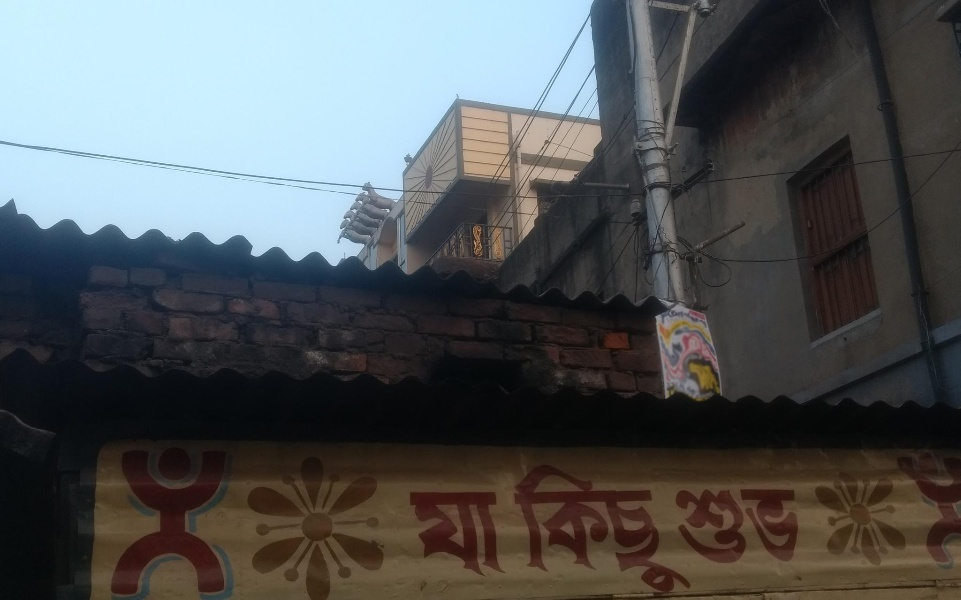text: (513, 465, 528, 592), (529, 465, 544, 592), (545, 465, 560, 592), (561, 465, 576, 592), (577, 465, 592, 592), (593, 465, 608, 592), (609, 465, 624, 592), (625, 465, 640, 592), (641, 465, 656, 592), (657, 465, 672, 592), (673, 465, 688, 592), (417, 488, 432, 579), (433, 488, 448, 579), (449, 488, 464, 579), (465, 488, 480, 579), (481, 488, 496, 579), (673, 487, 688, 567), (689, 487, 704, 567), (705, 487, 720, 567), (721, 487, 736, 567), (737, 487, 752, 567), (753, 487, 768, 567), (769, 487, 784, 567), (785, 487, 800, 567), (689, 465, 697, 592), (497, 488, 508, 579), (408, 488, 416, 579), (508, 465, 512, 592), (801, 487, 806, 567), (671, 487, 672, 567)
